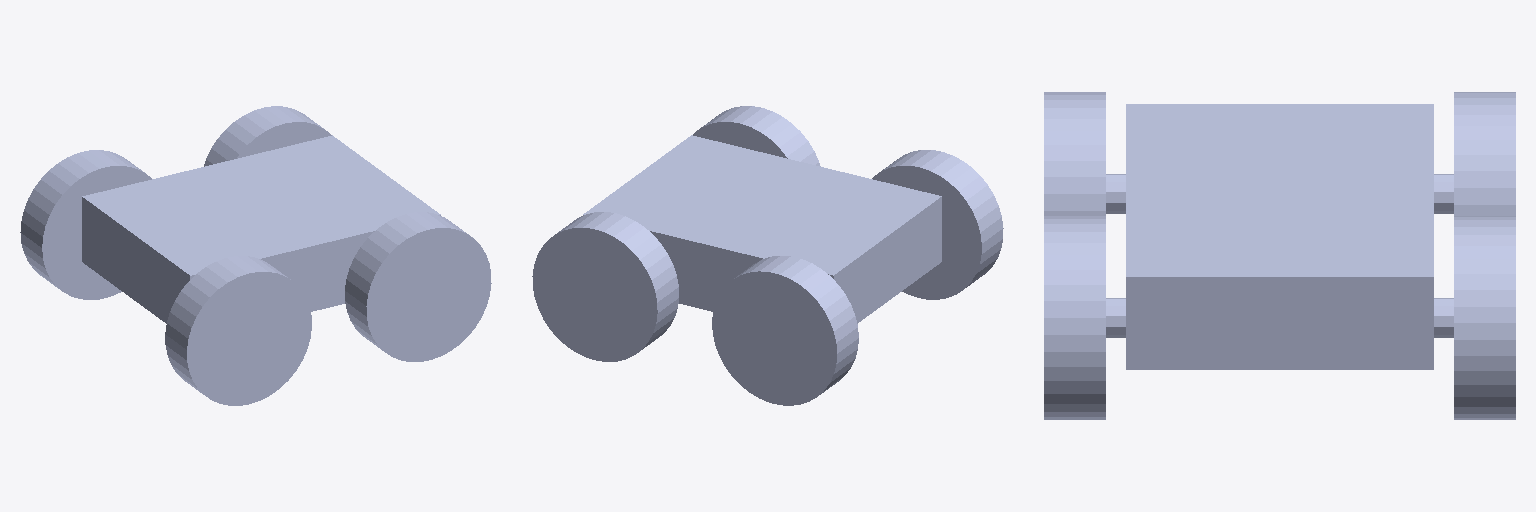
robot.urdf — kelambite:
<?xml version="1.0" encoding="utf-8"?>
<!-- This URDF was automatically created by SolidWorks to URDF Exporter! Originally created by [author] ([email redacted]) 
     Commit Version: 1.6.0-4-g7f85cfe  Build Version: 1.6.7995.38578
     For more information, please see http://wiki.ros.org/sw_urdf_exporter -->
<robot
  name="kelambite">
  <link
    name="base_link">
    <inertial>
      <origin
        xyz="-1.7843299608045E-05 3.46944695195361E-18 -0.00505111739670027"
        rpy="0 0 0" />
      <mass
        value="0.0122513274122872" />
      <inertia
        ixx="1.07927243404358E-06"
        ixy="4.40840680380612E-22"
        ixz="-5.33541774147311E-10"
        iyy="1.75383410028849E-06"
        iyz="-8.47430588760128E-24"
        izz="2.62954690382201E-06" />
    </inertial>
    <visual>
      <origin
        xyz="0 0 0"
        rpy="0 0 0" />
      <geometry>
        <mesh
          filename="package://kelambite/meshes/base_link.STL" />
      </geometry>
      <material
        name="">
        <color
          rgba="0.792156862745098 0.819607843137255 0.933333333333333 1" />
      </material>
    </visual>
    <collision>
      <origin
        xyz="0 0 0"
        rpy="0 0 0" />
      <geometry>
        <mesh
          filename="package://kelambite/meshes/base_link.STL" />
      </geometry>
    </collision>
  </link>
  <link
    name="LF_wheel">
    <inertial>
      <origin
        xyz="-8.67361737988404E-19 1.73472347597681E-18 -0.00296938775510204"
        rpy="0 0 0" />
      <mass
        value="0.0018472564803108" />
      <inertia
        ixx="5.262622905127E-08"
        ixy="4.19309484730494E-24"
        ixz="1.08890008202177E-23"
        iyy="5.262622905127E-08"
        iyz="-4.84242346075222E-27"
        izz="9.41723813840077E-08" />
    </inertial>
    <visual>
      <origin
        xyz="0 0 0"
        rpy="0 0 0" />
      <geometry>
        <mesh
          filename="package://kelambite/meshes/LF_wheel.STL" />
      </geometry>
      <material
        name="">
        <color
          rgba="0.792156862745098 0.819607843137255 0.933333333333333 1" />
      </material>
    </visual>
    <collision>
      <origin
        xyz="0 0 0"
        rpy="0 0 0" />
      <geometry>
        <mesh
          filename="package://kelambite/meshes/LF_wheel.STL" />
      </geometry>
    </collision>
  </link>
  <joint
    name="left_front_wheel"
    type="continuous">
    <origin
      xyz="0.013461 0.023 -0.0074918"
      rpy="-1.5708 0 0" />
    <parent
      link="base_link" />
    <child
      link="LF_wheel" />
    <axis
      xyz="0 0 1" />
    <limit
      effort="10"
      velocity="10" />
    <dynamics
      damping="0.1"
      friction="0.1" />
  </joint>
  <link
    name="LB_wheel">
    <inertial>
      <origin
        xyz="-3.46944695195361E-18 0 -0.00296938775510204"
        rpy="0 0 0" />
      <mass
        value="0.0018472564803108" />
      <inertia
        ixx="5.262622905127E-08"
        ixy="-7.66060979597263E-42"
        ixz="6.52280154631335E-25"
        iyy="5.26262290512699E-08"
        iyz="1.13705391011133E-40"
        izz="9.41723813840076E-08" />
    </inertial>
    <visual>
      <origin
        xyz="0 0 0"
        rpy="0 0 0" />
      <geometry>
        <mesh
          filename="package://kelambite/meshes/LB_wheel.STL" />
      </geometry>
      <material
        name="">
        <color
          rgba="0.792156862745098 0.819607843137255 0.933333333333333 1" />
      </material>
    </visual>
    <collision>
      <origin
        xyz="0 0 0"
        rpy="0 0 0" />
      <geometry>
        <mesh
          filename="package://kelambite/meshes/LB_wheel.STL" />
      </geometry>
    </collision>
  </link>
  <joint
    name="left_back_wheel"
    type="continuous">
    <origin
      xyz="-0.015201 0.023 -0.0074918"
      rpy="-1.5708 0 0" />
    <parent
      link="base_link" />
    <child
      link="LB_wheel" />
    <axis
      xyz="0 0 1" />
    <limit
      effort="10"
      velocity="10" />
    <dynamics
      damping="0.1"
      friction="0.1" />
  </joint>
  <link
    name="RF_wheel">
    <inertial>
      <origin
        xyz="1.73472347597681E-18 0 0.00296938775510204"
        rpy="0 0 0" />
      <mass
        value="0.0018472564803108" />
      <inertia
        ixx="5.262622905127E-08"
        ixy="1.0132659581187E-24"
        ixz="-3.69606293567246E-26"
        iyy="5.262622905127E-08"
        iyz="-3.42049535484682E-27"
        izz="9.41723813840077E-08" />
    </inertial>
    <visual>
      <origin
        xyz="0 0 0"
        rpy="0 0 0" />
      <geometry>
        <mesh
          filename="package://kelambite/meshes/RF_wheel.STL" />
      </geometry>
      <material
        name="">
        <color
          rgba="0.792156862745098 0.819607843137255 0.933333333333333 1" />
      </material>
    </visual>
    <collision>
      <origin
        xyz="0 0 0"
        rpy="0 0 0" />
      <geometry>
        <mesh
          filename="package://kelambite/meshes/RF_wheel.STL" />
      </geometry>
    </collision>
  </link>
  <joint
    name="right_front1111-wheel"
    type="continuous">
    <origin
      xyz="0.013461 -0.023 -0.0074918"
      rpy="-1.5708 0 0" />
    <parent
      link="base_link" />
    <child
      link="RF_wheel" />
    <axis
      xyz="0 0 -1" />
    <limit
      effort="10"
      velocity="10" />
    <dynamics
      damping="0.1"
      friction="0.1" />
  </joint>
  <link
    name="RB_wheel">
    <inertial>
      <origin
        xyz="0 0 0.00296938775510204"
        rpy="0 0 0" />
      <mass
        value="0.0018472564803108" />
      <inertia
        ixx="5.262622905127E-08"
        ixy="9.30547896863396E-25"
        ixz="-2.92995444779018E-26"
        iyy="5.262622905127E-08"
        iyz="7.07119343498405E-27"
        izz="9.41723813840077E-08" />
    </inertial>
    <visual>
      <origin
        xyz="0 0 0"
        rpy="0 0 0" />
      <geometry>
        <mesh
          filename="package://kelambite/meshes/RB_wheel.STL" />
      </geometry>
      <material
        name="">
        <color
          rgba="0.792156862745098 0.819607843137255 0.933333333333333 1" />
      </material>
    </visual>
    <collision>
      <origin
        xyz="0 0 0"
        rpy="0 0 0" />
      <geometry>
        <mesh
          filename="package://kelambite/meshes/RB_wheel.STL" />
      </geometry>
    </collision>
  </link>
  <joint
    name="right_back_wheel"
    type="continuous">
    <origin
      xyz="-0.015201 -0.023 -0.0074918"
      rpy="-1.5708 0 0" />
    <parent
      link="base_link" />
    <child
      link="RB_wheel" />
    <axis
      xyz="0 0 -1" />
    <limit
      effort="10"
      velocity="10" />
    <dynamics
      damping="0.1"
      friction="0.1" />
  </joint>
</robot>

--- Facts derived from the render (not from the file) ---
3 views of the same robot in one strip: view 1: azimuth 30°, elevation 25°; view 2: azimuth 150°, elevation 25°; view 3: azimuth 270°, elevation 25° (orthographic).
Model kelambite with 5 links and 4 joints (4 continuous), rooted at base_link, posed every joint at zero.
Links seen in each view (by area): view 1: base_link, RB_wheel, RF_wheel, LB_wheel, LF_wheel; view 2: base_link, LB_wheel, LF_wheel, RB_wheel, RF_wheel; view 3: base_link, LF_wheel, RF_wheel, LB_wheel, RB_wheel.
Boxes of the visible links, <box> form: base_link: <box>82,135,440,323</box>; RB_wheel: <box>165,256,311,405</box>; RF_wheel: <box>345,212,491,361</box>; LB_wheel: <box>20,150,151,299</box>; LF_wheel: <box>204,106,331,166</box>; base_link: <box>583,135,941,323</box>; LB_wheel: <box>712,256,858,405</box>; LF_wheel: <box>532,212,678,361</box>; RB_wheel: <box>872,150,1003,299</box>; RF_wheel: <box>693,106,820,166</box>; base_link: <box>1106,104,1453,369</box>; LF_wheel: <box>1454,216,1515,419</box>; RF_wheel: <box>1044,216,1105,419</box>; LB_wheel: <box>1454,92,1515,215</box>; RB_wheel: <box>1044,92,1105,215</box>.
Bounding box of the posed robot: 0.0486 × 0.046 × 0.02 m (x, y, z).
5 mesh visuals loaded from 5 distinct referenced files (5 binary STL).